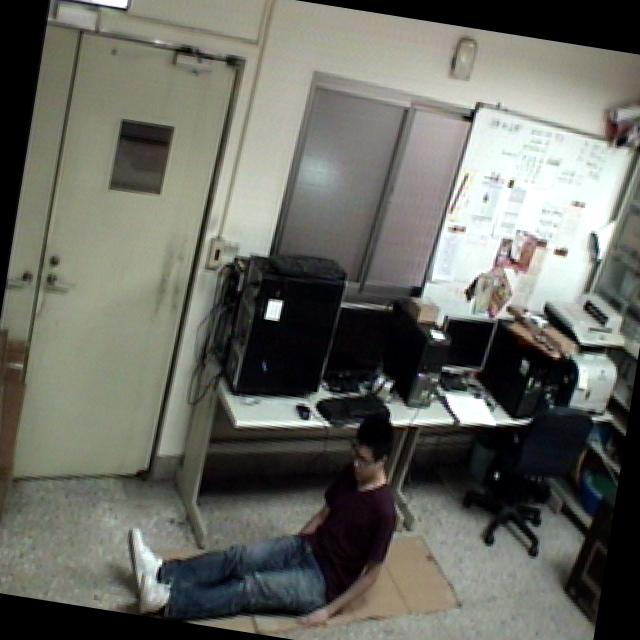sit: (107, 371, 424, 640)
